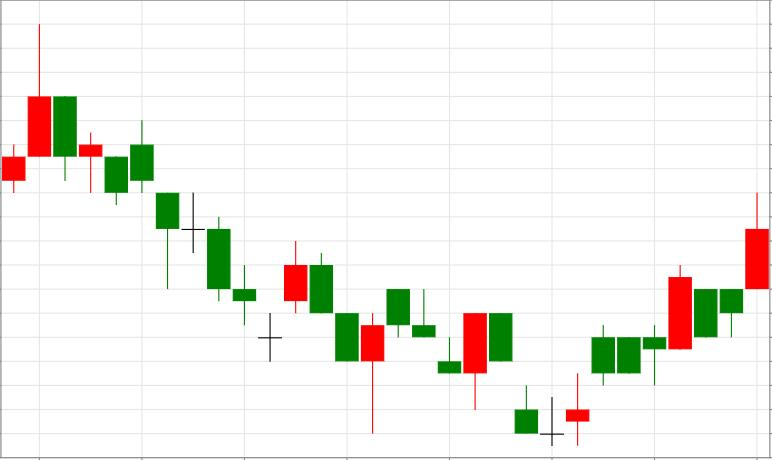bullish_engulfing_rise: (387, 289, 487, 411)
morning_star_rise: (130, 120, 308, 362)
